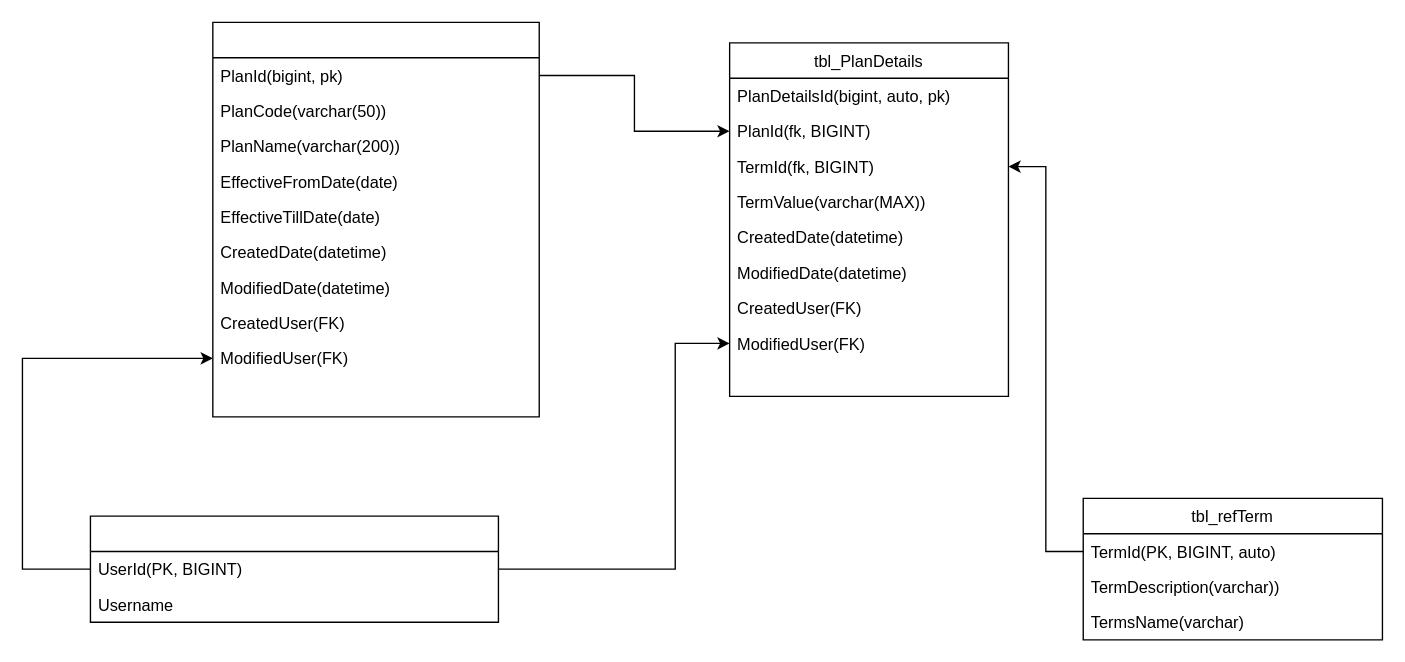
Image size: 1405x662. Some labels were removed from this diagram. Each missing label, with the box of its shape:
tbl_Plans: (211, 21, 539, 417)
tbl_User: (89, 515, 498, 622)
